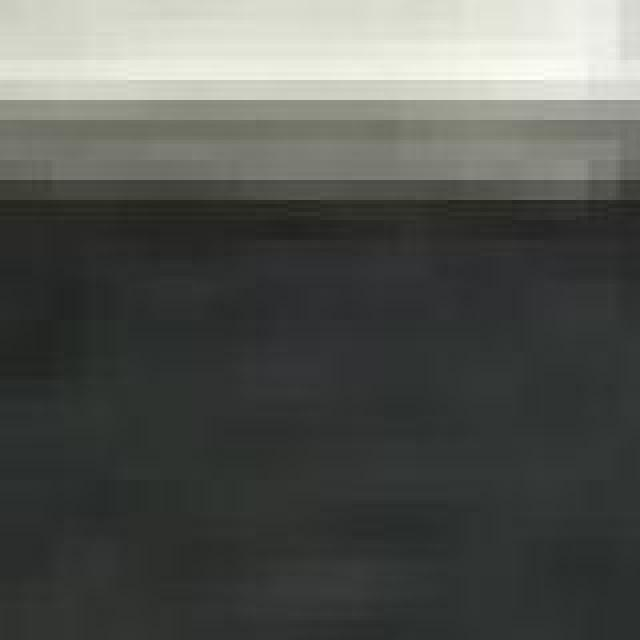diode: (0, 16, 640, 640)
